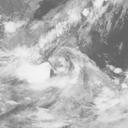cyclone: (26, 42, 89, 95)
